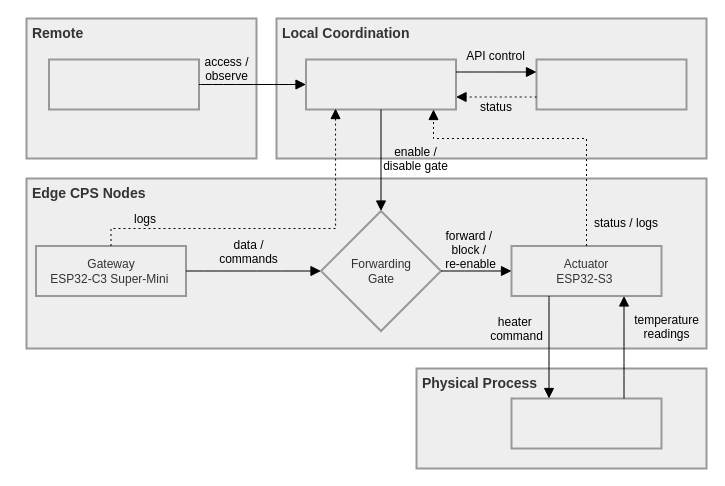
This 725x486 diagram has some shape labels left out. The shapes that lost their labels are listed below. From the top down, each one's centre as x and y in pixels, then its label:
(x=124, y=84): Researcher
(x=380, y=84): Ubuntu host
(x=611, y=84): Home Assistant on Raspberry Pi
(x=586, y=423): Temperature-control enclosure
